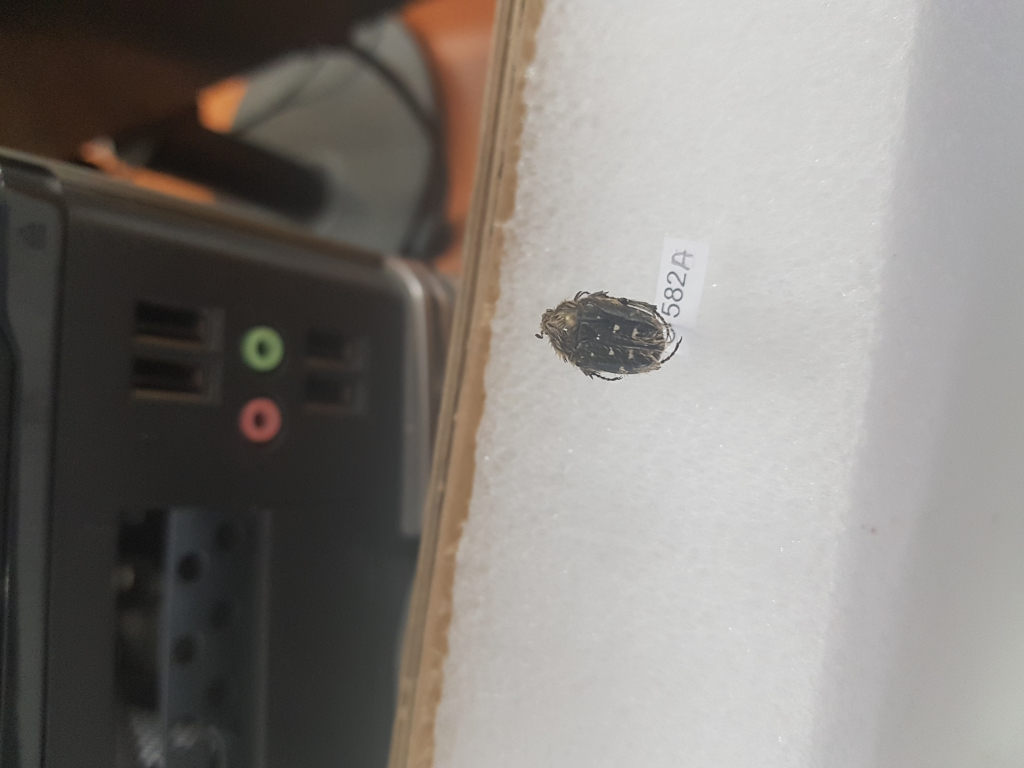Tropinota_hirta: (529, 280, 699, 395)
